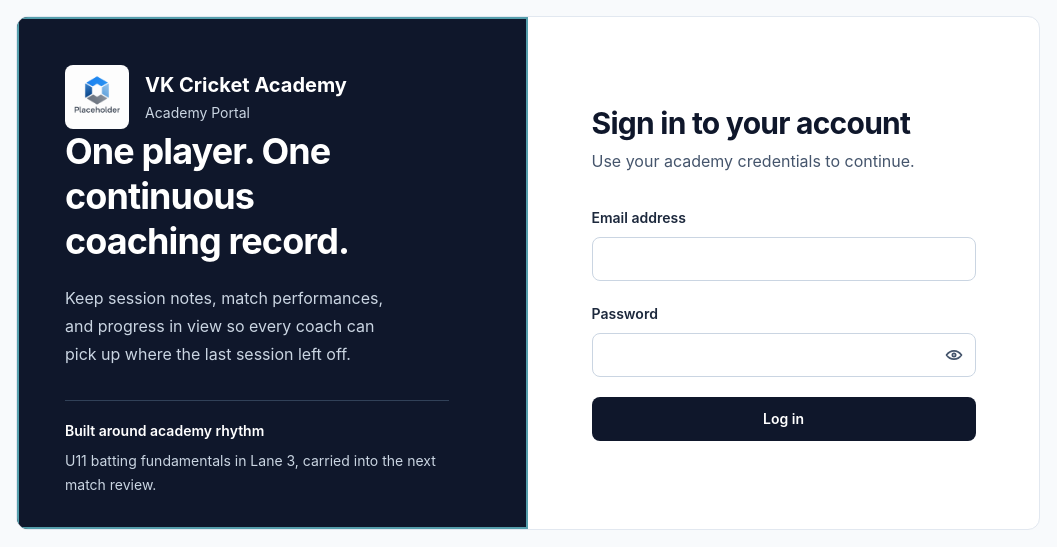
LoginPage › validates email syntax before submitting
The width and height of the screenshot is (1057, 547).
Step 1. Type "coach@vkca" into the field labelled "Email address" → (784, 259), box [592,237,976,281]
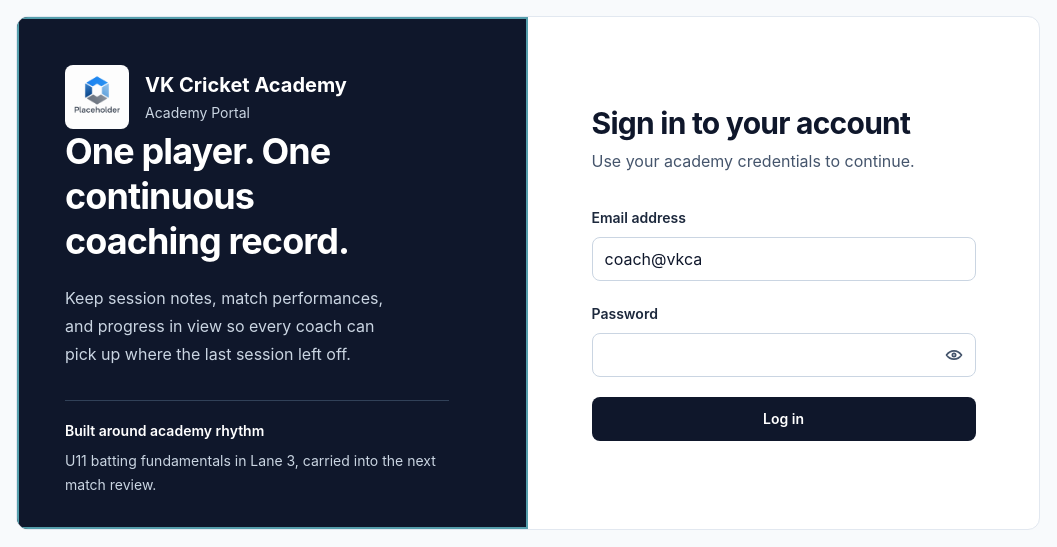
Step 2. Type "StrongPassword!1" into the password field labelled "Password" → (784, 355), box [592,333,976,377]
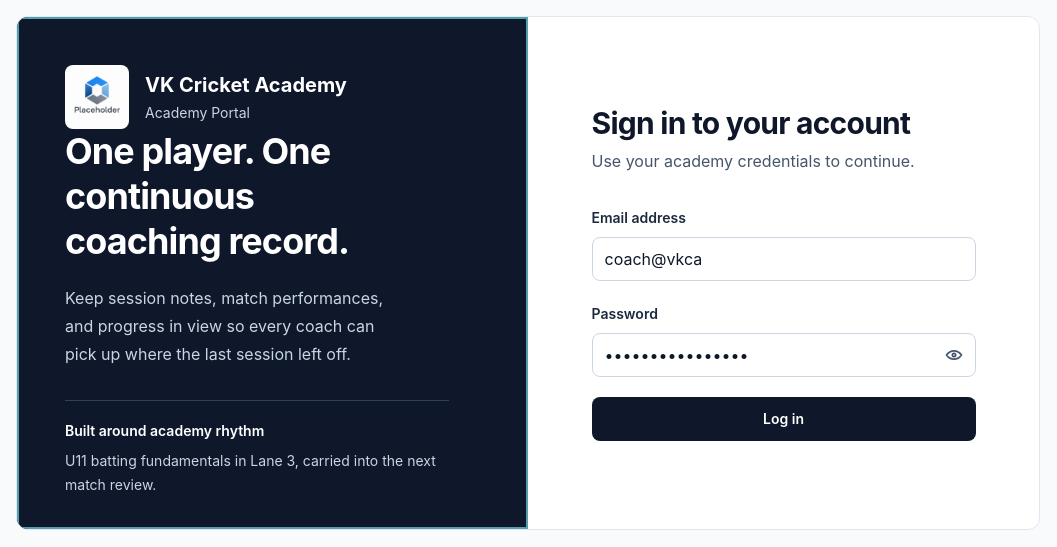
Step 3. Click the button "Log in" → click(784, 419), box [592,397,976,441]
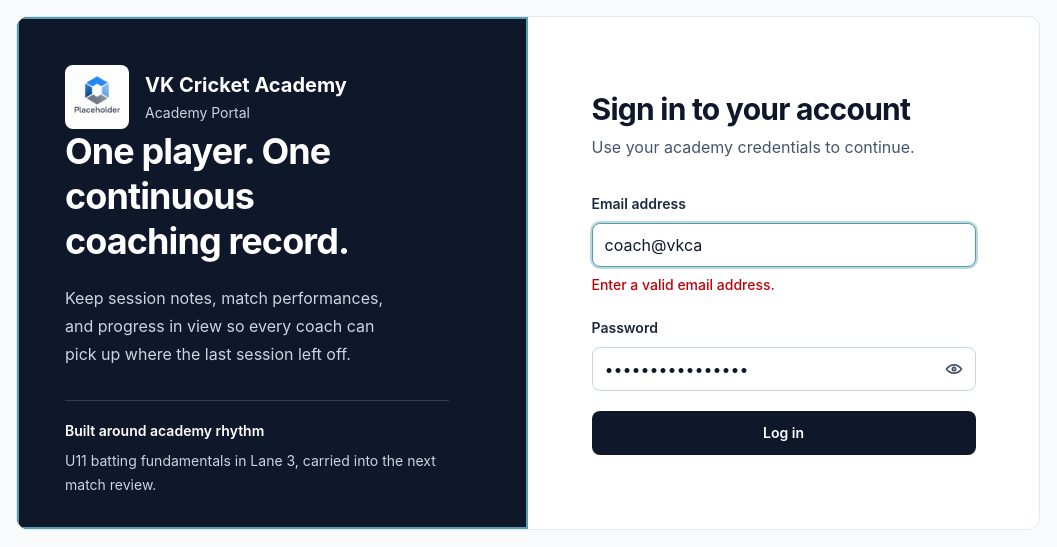
Expected: the text "Enter a valid email address." is shown, [592,276,775,293]
